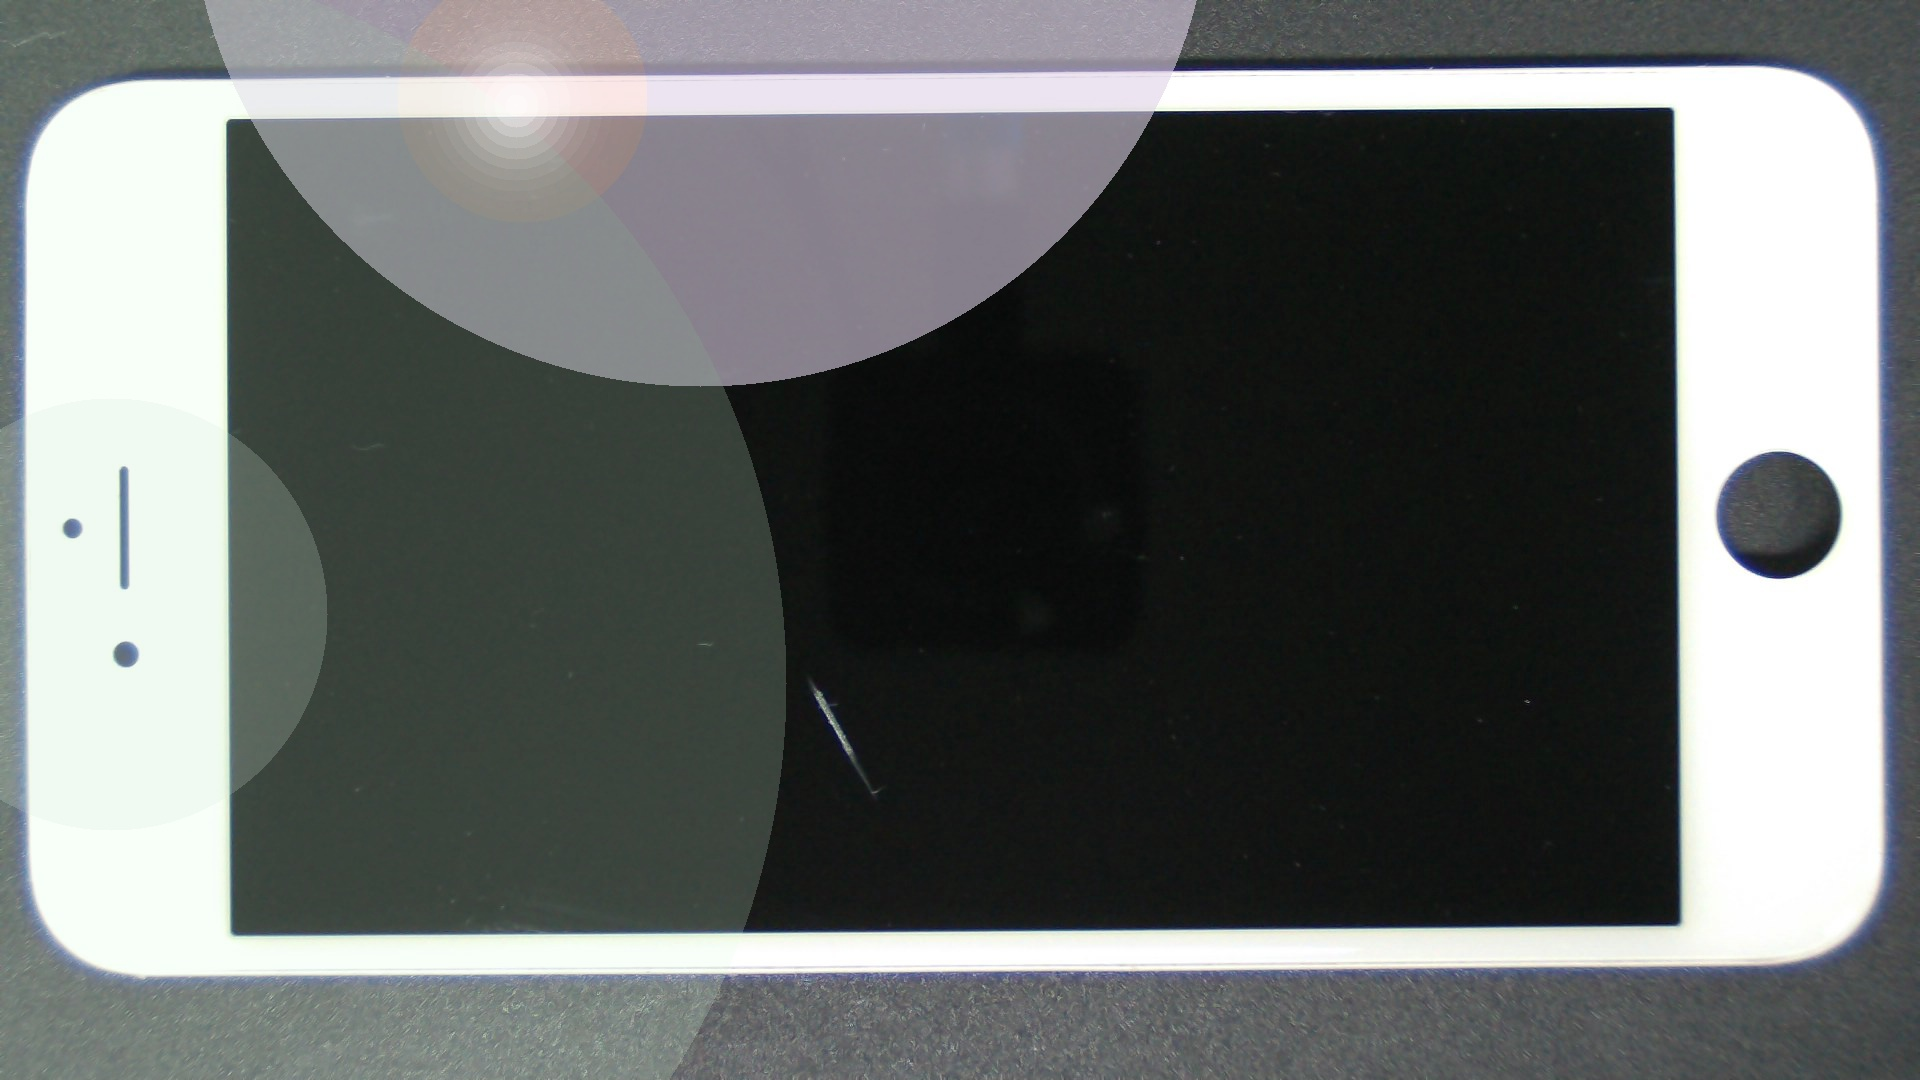oil: (405, 338, 1213, 1014)
